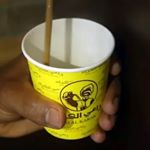cups: (18, 16, 118, 142)
